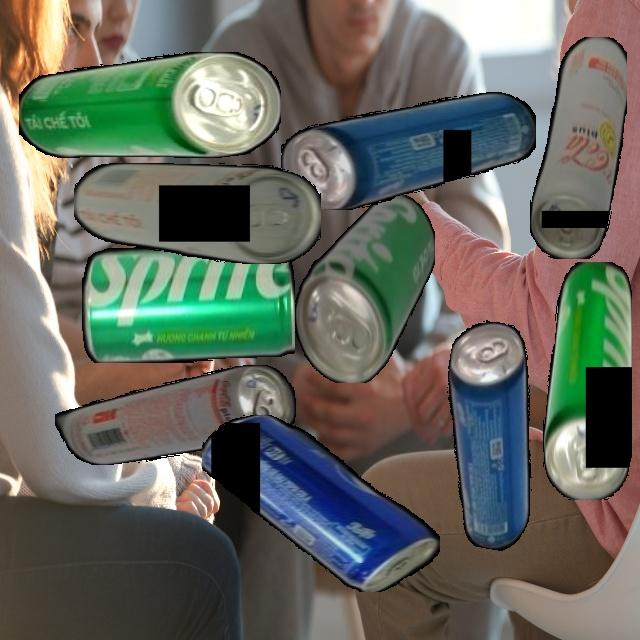debris: (202, 414, 440, 592), (419, 316, 561, 554), (281, 91, 536, 210), (18, 52, 281, 158), (294, 194, 435, 383), (81, 241, 295, 363), (73, 163, 321, 264), (54, 364, 296, 465), (529, 36, 627, 259), (542, 261, 632, 500)
